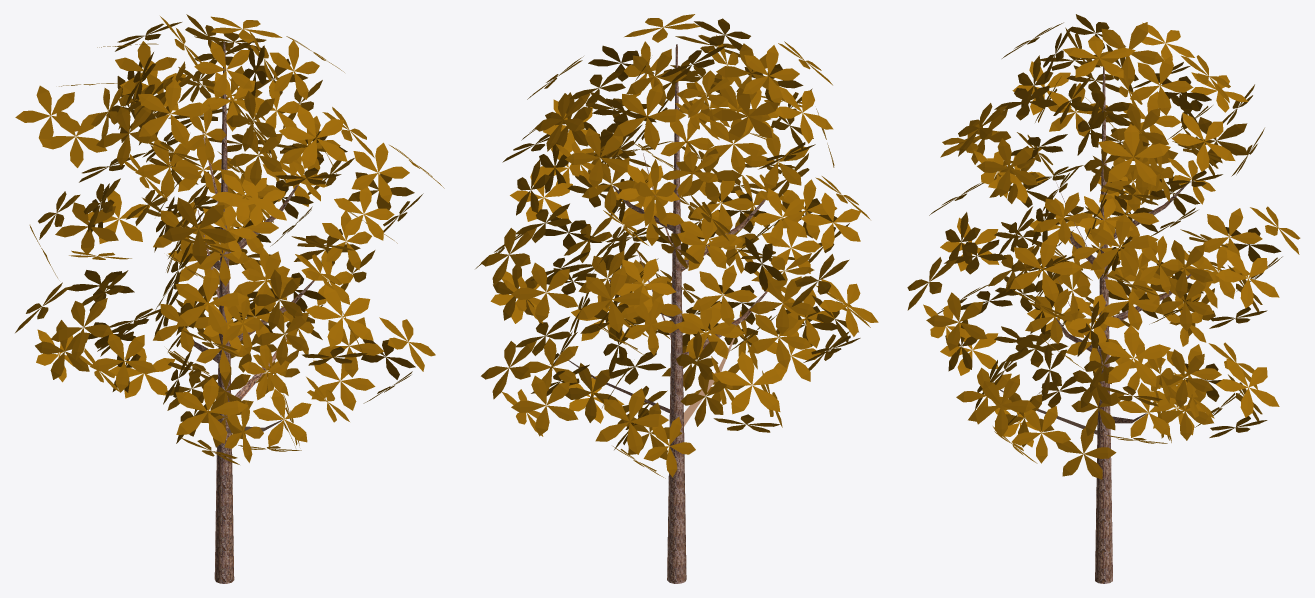
The model's file is tree5.glb.
3 renders of one model, left to right at view 1: azimuth 30°, elevation 25°; view 2: azimuth 150°, elevation 25°; view 3: azimuth 270°, elevation 25°, orthographic. The views are drawn at different scales.
Parts seen in each view (by area): view 1: Tree5; view 2: Tree5; view 3: Tree5.
Boxes of the visible parts, box(x1,y1,x2,y2) form: Tree5: box(15, 14, 444, 583); Tree5: box(475, 14, 878, 583); Tree5: box(907, 14, 1300, 583).
Size of the model in its own units: 2.52 by 3.66 by 2.42.
Materials: 2 (2 with a texture image).
